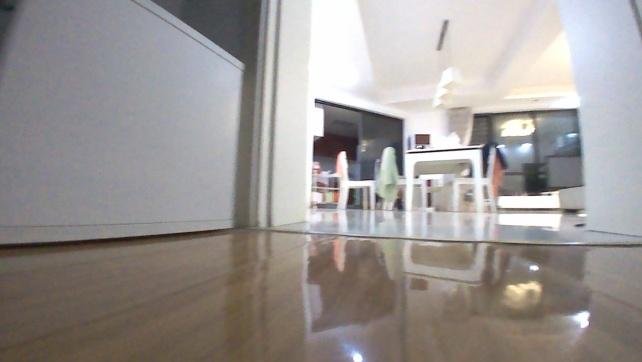dining_table: (375, 140, 503, 213)
